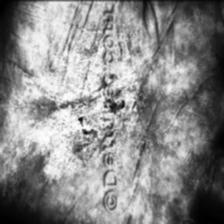Non-Cancerous Skin Condition: (30, 46, 102, 170), (106, 64, 145, 152)
